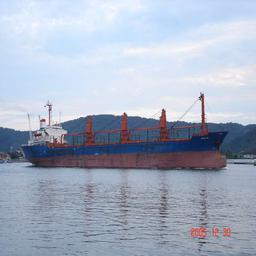Ship: (20, 98, 228, 172)
